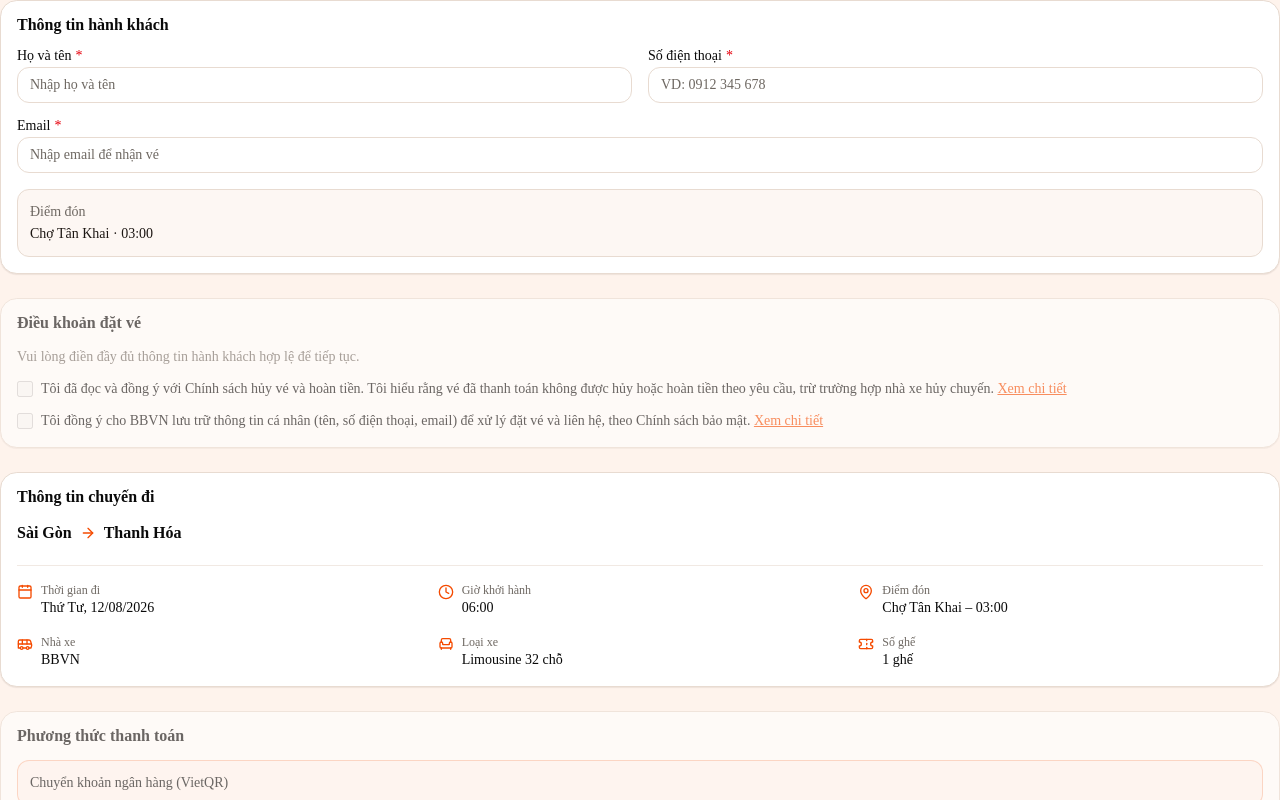
Scenario: CheckoutClient › keeps consent disabled until the info is valid, then enables it
The image size is (1280, 800).
expect the 1st checkbox is disabled: met, box left=17, top=381, right=33, bottom=397
Type "Nguyen Van Test" into the field with placeholder "Nhập họ và tên" at (324, 85), box left=17, top=67, right=632, bottom=103
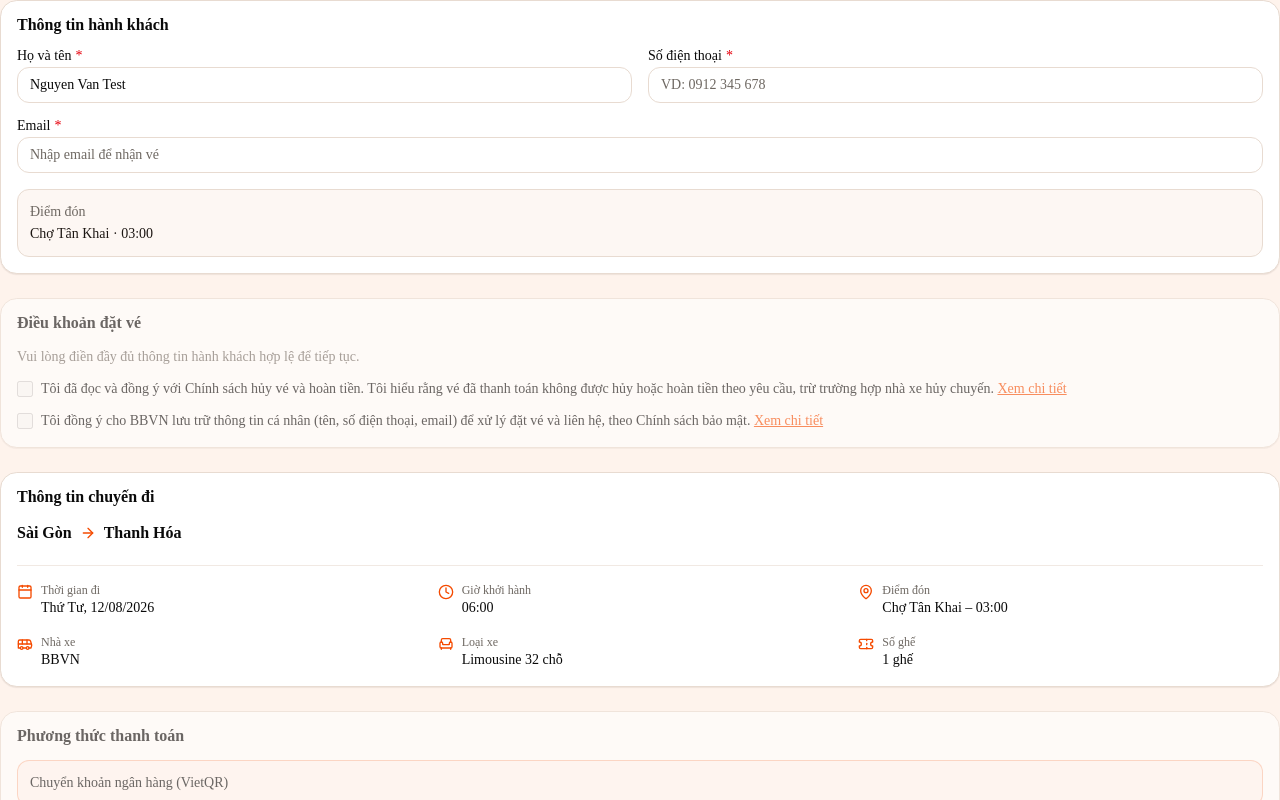
Type "0912345678" into the field with placeholder "VD: 0912 345 678" at (956, 85), box left=648, top=67, right=1263, bottom=103
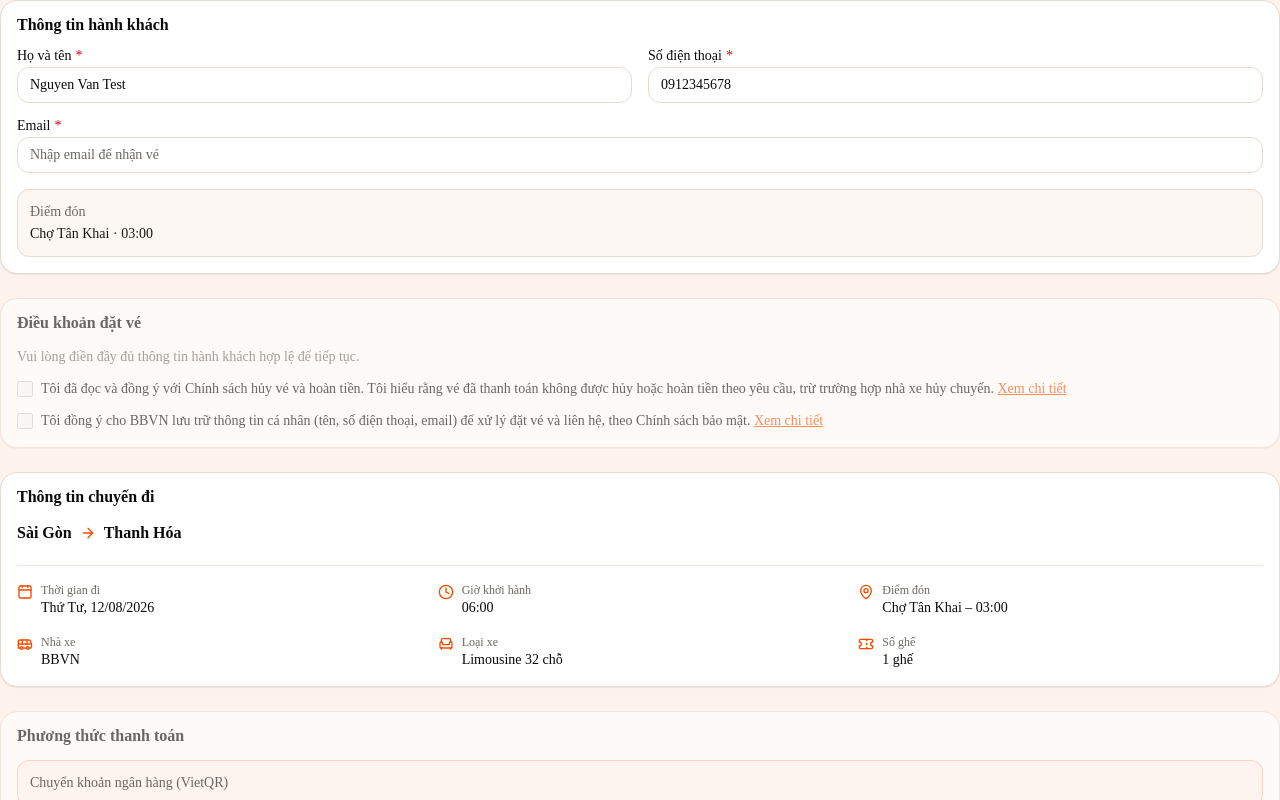
Type "test@example.com" into the field with placeholder "Nhập email để nhận vé" at (640, 155), box left=17, top=137, right=1263, bottom=173
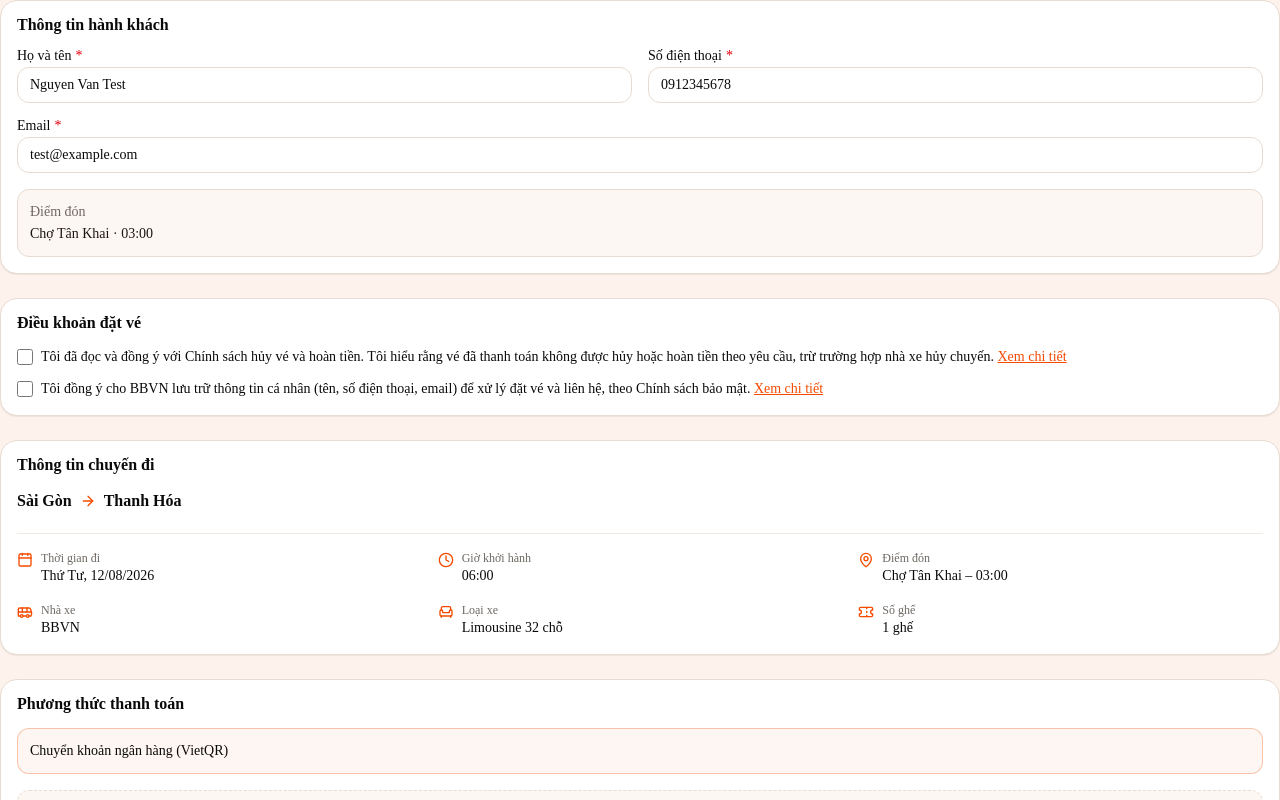
expect the 1st checkbox is enabled: met, box left=17, top=349, right=33, bottom=365
expect the 2nd checkbox is enabled: met, box left=17, top=381, right=33, bottom=397
